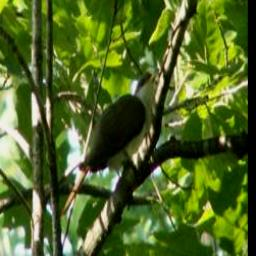Cuckoo: (59, 66, 163, 218)
